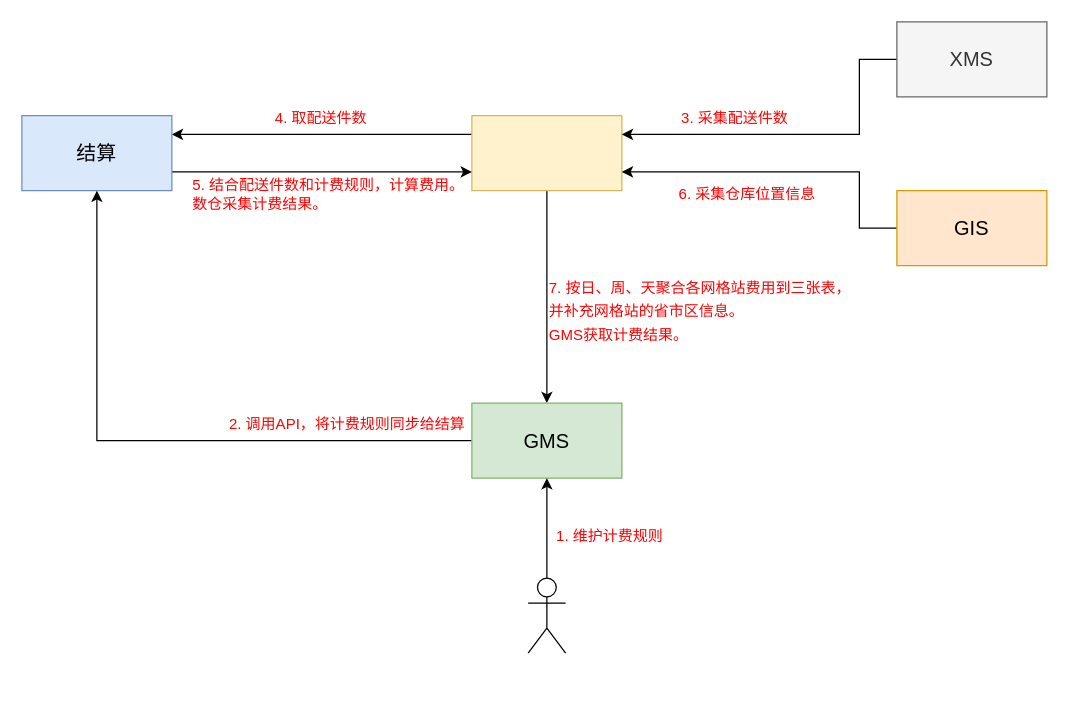
Some shapes in this 1069 by 708 pixel diagram are drawn without their labels. The centre of each missing label's shape, as x and y in pixels:
数仓: the point at 546,152
运营: the point at 546,615
